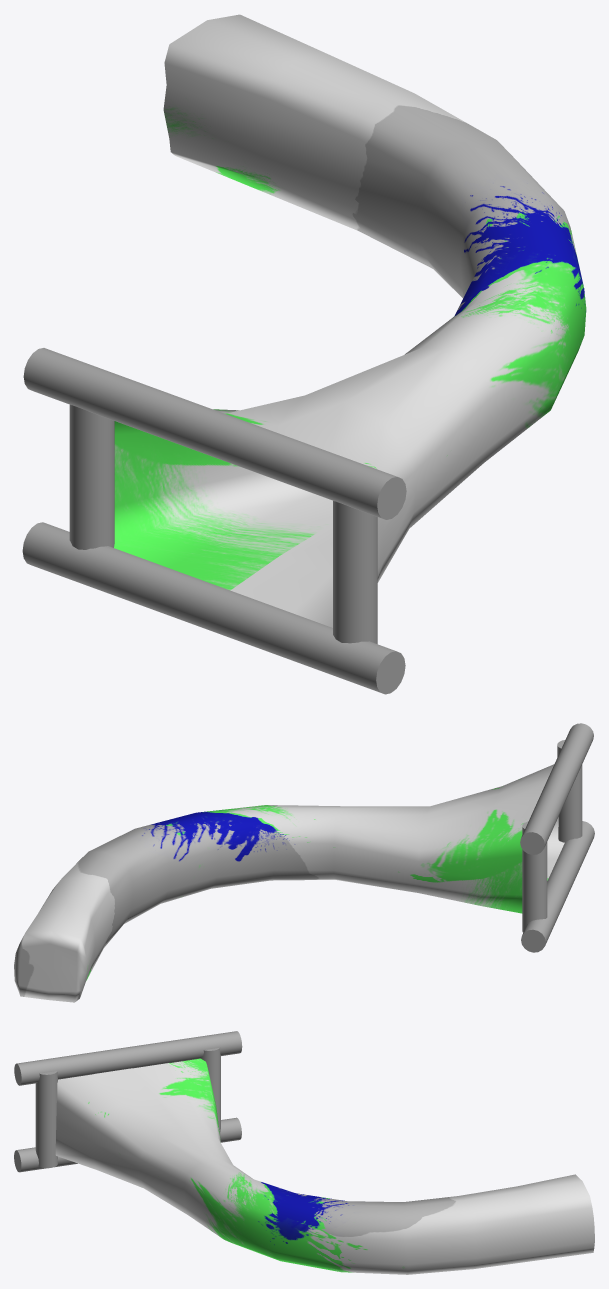
The model's file is Lvl1Exit.fbx.
The picture shows the model from 3 angles, top to bottom: view 1: azimuth 30°, elevation 25°; view 2: azimuth 150°, elevation 25°; view 3: azimuth 270°, elevation 25°; orthographic projection. The views are drawn at different scales.
Visible parts, largest first — view 1: Exit, Top, Bottom, Left, Right; view 2: Exit, Top, Bottom, Left, Right; view 3: Exit, Top, Right, Bottom, Left.
Boxes of the visible parts, x1,y1,x2,y2 form: Exit: (114, 14, 586, 627); Top: (23, 348, 406, 519); Bottom: (22, 522, 405, 694); Left: (69, 404, 114, 549); Right: (333, 501, 377, 643); Exit: (14, 764, 564, 1002); Top: (520, 723, 593, 854); Bottom: (521, 821, 594, 952); Left: (522, 821, 547, 932); Right: (557, 740, 582, 842); Exit: (55, 1058, 594, 1274); Top: (14, 1031, 242, 1085); Right: (35, 1071, 57, 1168); Bottom: (14, 1117, 241, 1172); Left: (201, 1048, 220, 1136).
Size of the model in its own units: 9.77 by 3 by 14.72.
